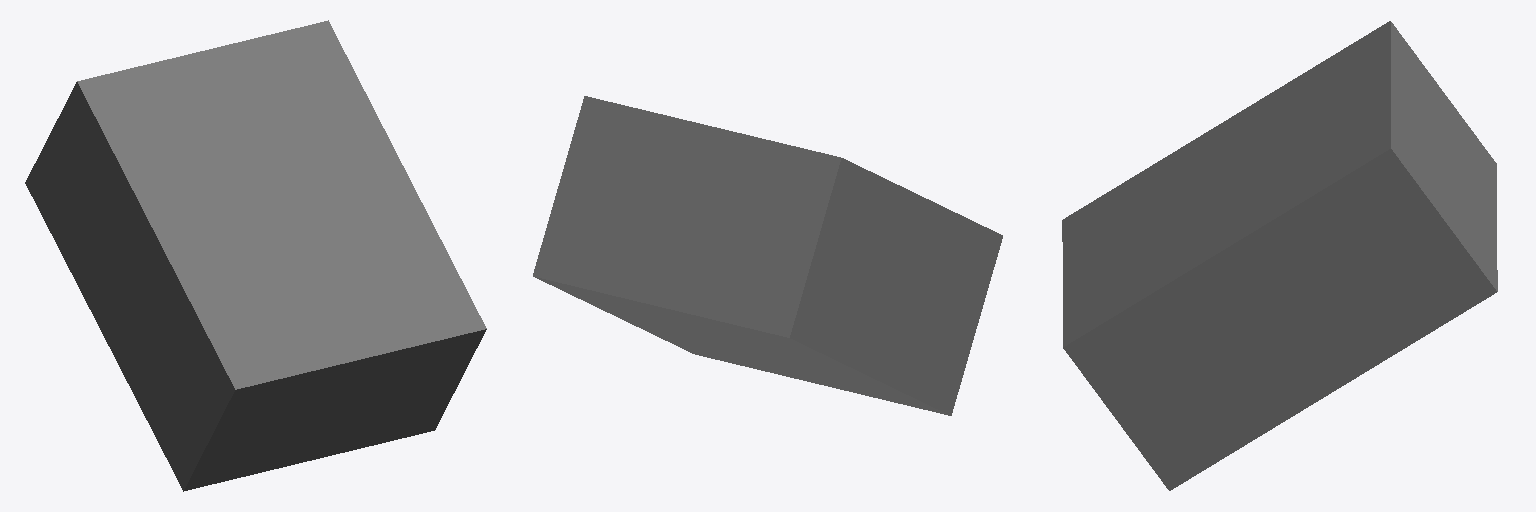
The robot description file, URDF, robot "brick_x-1-5":
<?xml version="1.0"?>
<robot name="brick_x-1-5">
  <link name="base">
    <visual>
      <geometry>
        <mesh filename="brick_x-1-5.obj" scale="1 1 1"/>
      </geometry>
      <material name="gray">
        <color rgba="0.5 0.5 0.5 1.0"/>
      </material>
    </visual>
    <collision>
      <geometry>
        <mesh filename="brick_x-1-5.obj" scale="1 1 1"/>
      </geometry>
    </collision>
    <inertial>
      <mass value="1.000"/>
      <inertia
          ixx="0.016535" ixy="0.000000" ixz="0.000000"
          iyy="0.011658" iyz="0.000000"
          izz="0.013900"/>
      <origin xyz="0.003291 -0.159129 0.974393" rpy="0 0 0"/>
    </inertial>
  </link>
</robot>

--- Facts derived from the render (not from the file) ---
Views: 3 orthographic renders of the robot side by side, from view 1: azimuth 30°, elevation 25°; view 2: azimuth 150°, elevation 25°; view 3: azimuth 270°, elevation 25°.
Robot: brick_x-1-5 — 1 links, 0 joints (none); root link base; default pose: every joint at zero.
Links seen in each view (by area): view 1: base; view 2: base; view 3: base.
Link boxes in pixels (x1,y1,x2,y2): base: (25,20,486,491); base: (533,96,1002,415); base: (1062,21,1497,490).
Size in the robot's own frame: 0.2327 by 0.3356 by 0.2928 metres.
1 mesh visuals loaded from 1 distinct referenced files (1 OBJ).
